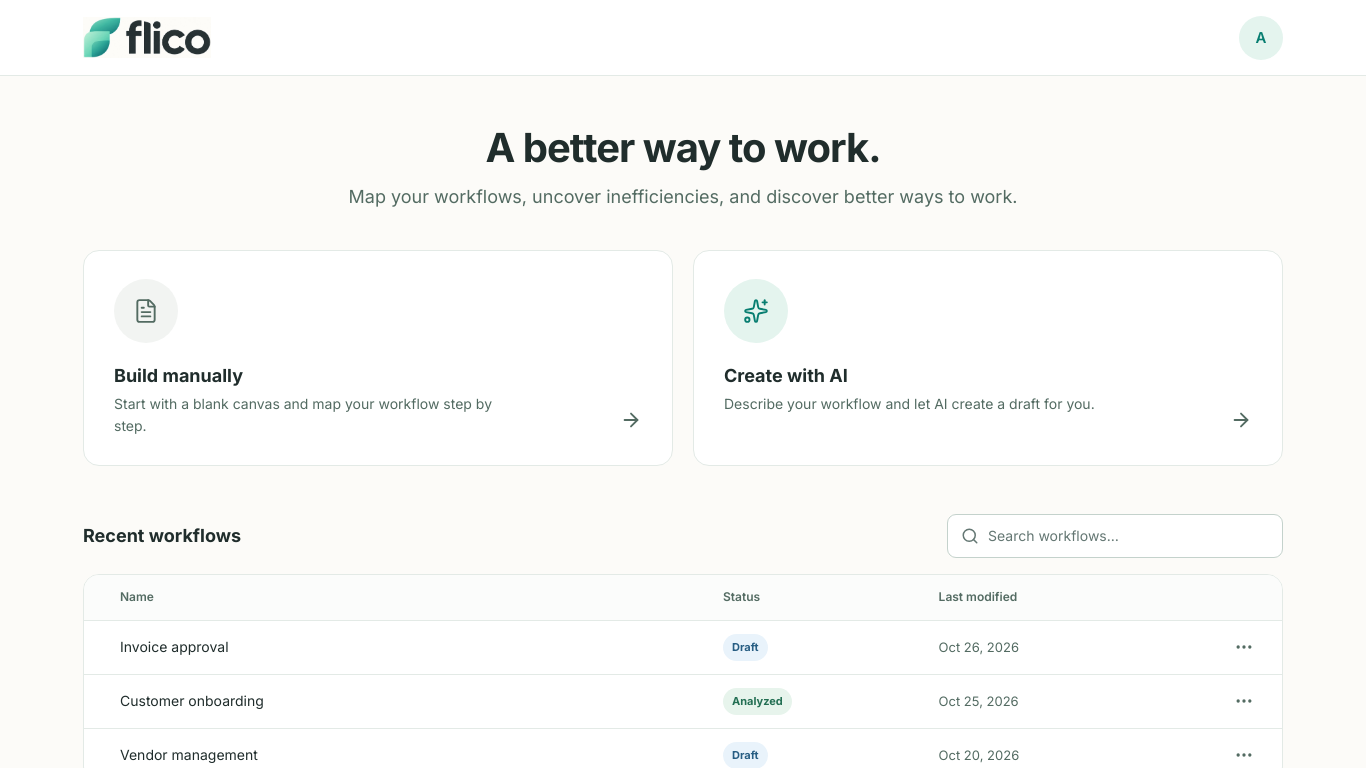
dashboard › delete asks for irreversible confirmation; Cancel keeps the workflow (D06)
The image size is (1366, 768).
Click the button named "Actions for Invoice approval" at (1244, 647), box [1222,625,1266,669]
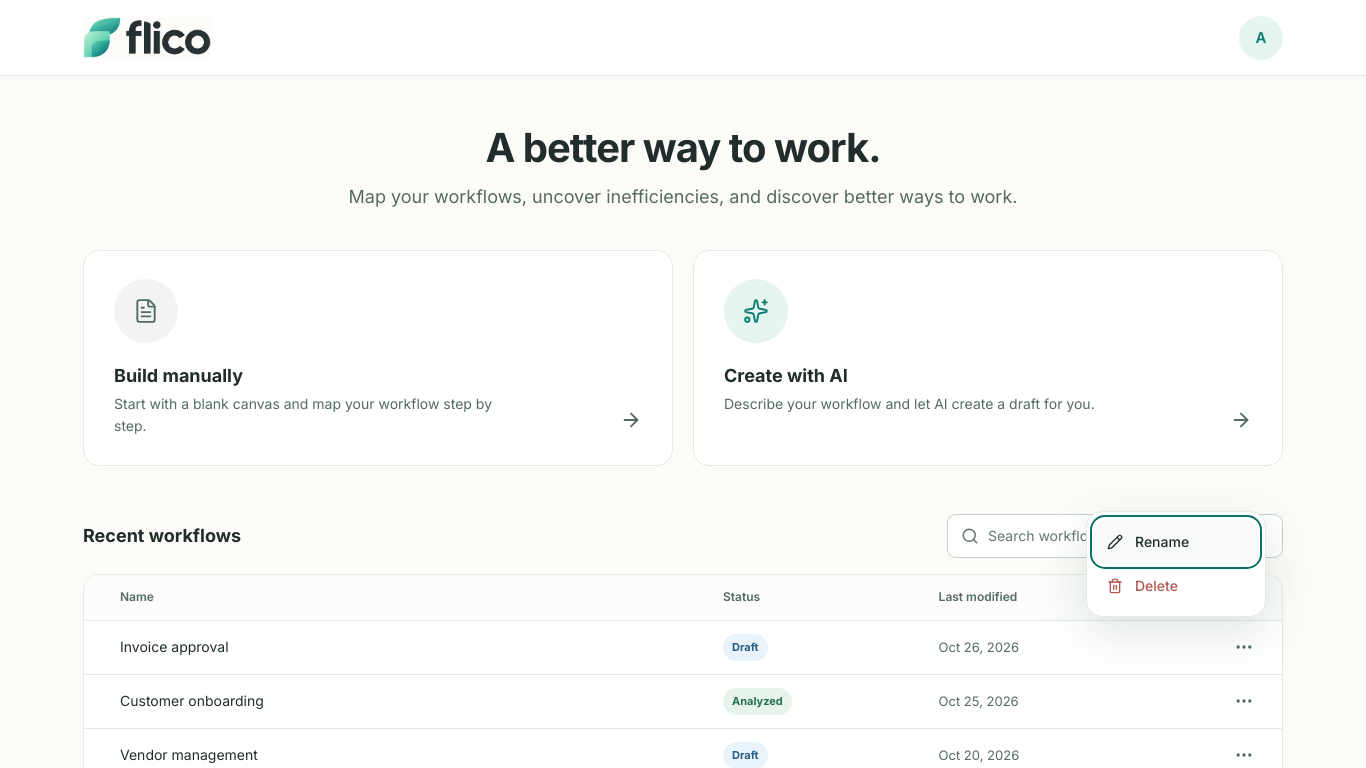
Click the menu item "Delete" at (1176, 586), box [1095,564,1257,608]
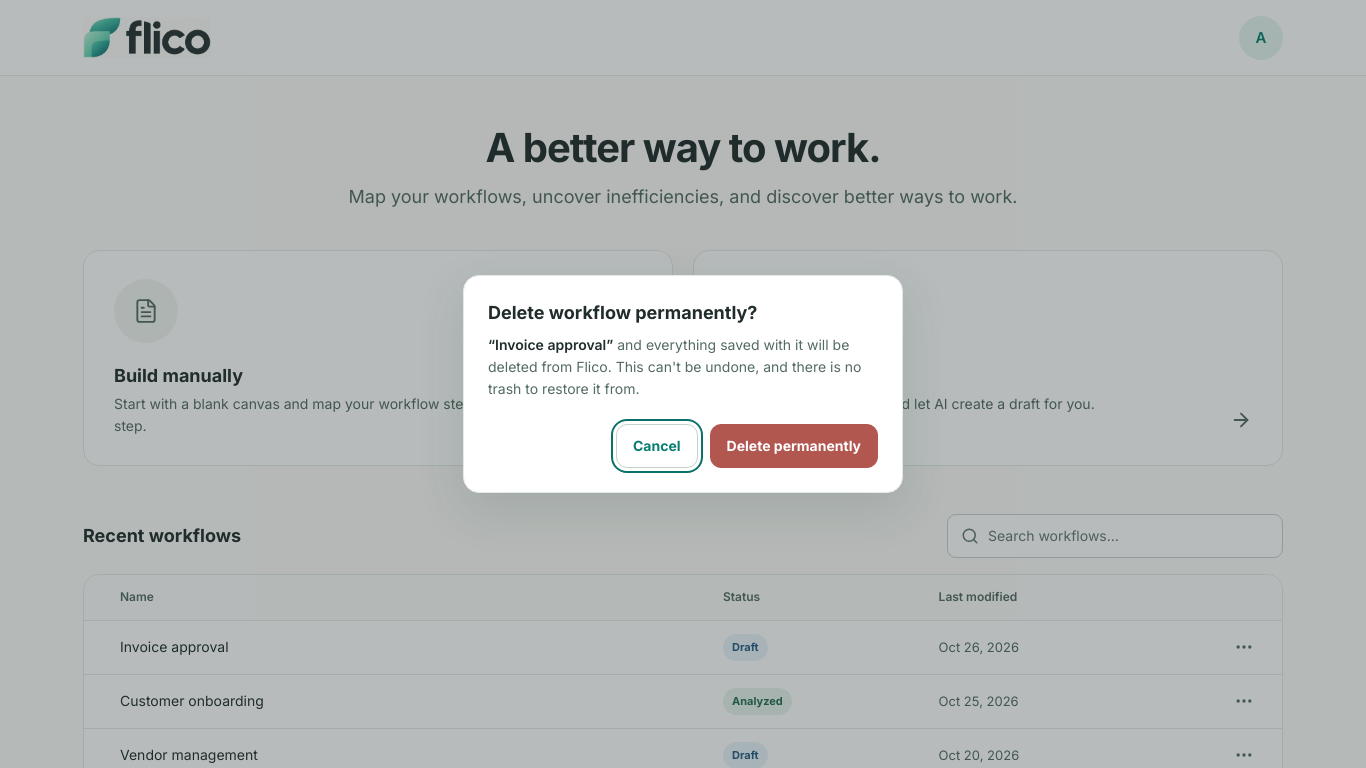
Result: the dialog "Delete workflow permanently?" shows "“Invoice approval”" at [463,276,903,493]
Result: the dialog "Delete workflow permanently?" shows "can't be undone" at [488,336,861,397]
Press Escape
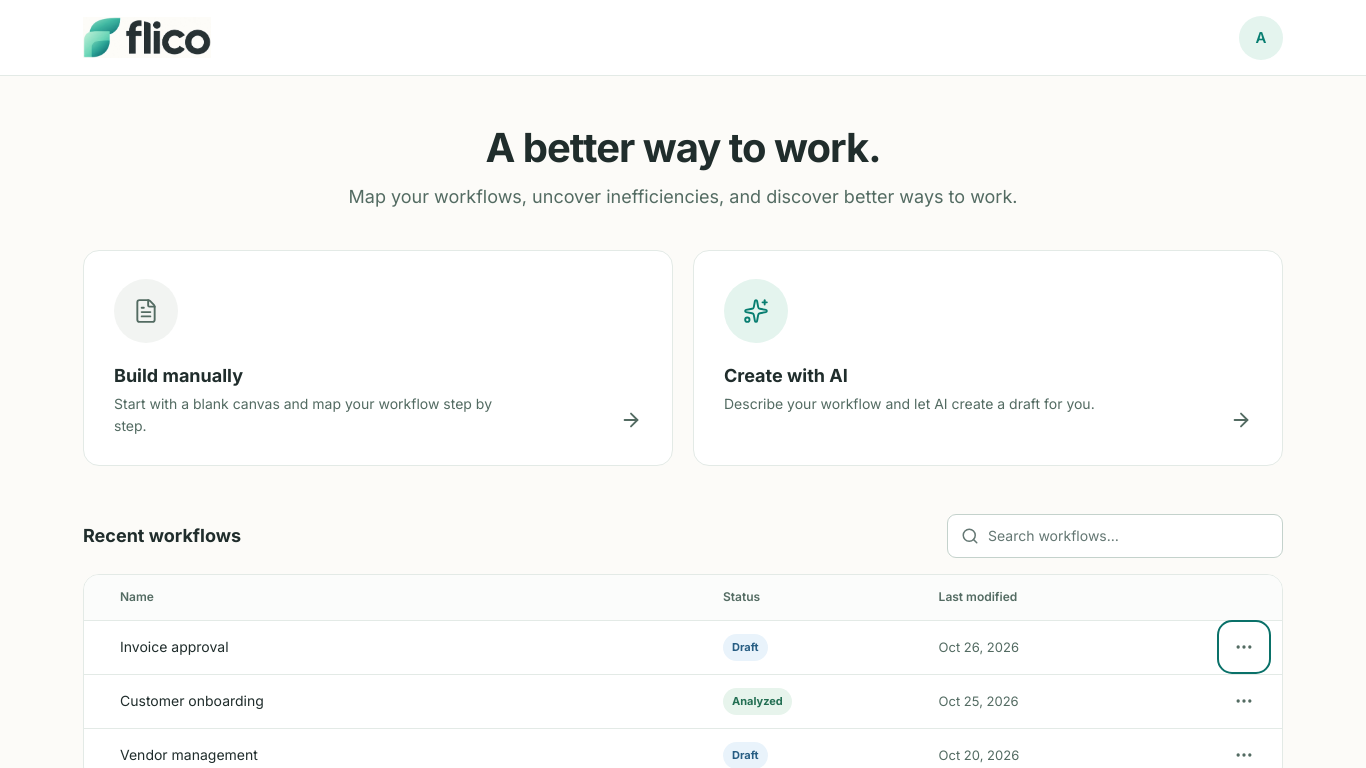
Expected: the link "Invoice approval" is shown, [120,638,228,655]
Result: the dialog is gone
